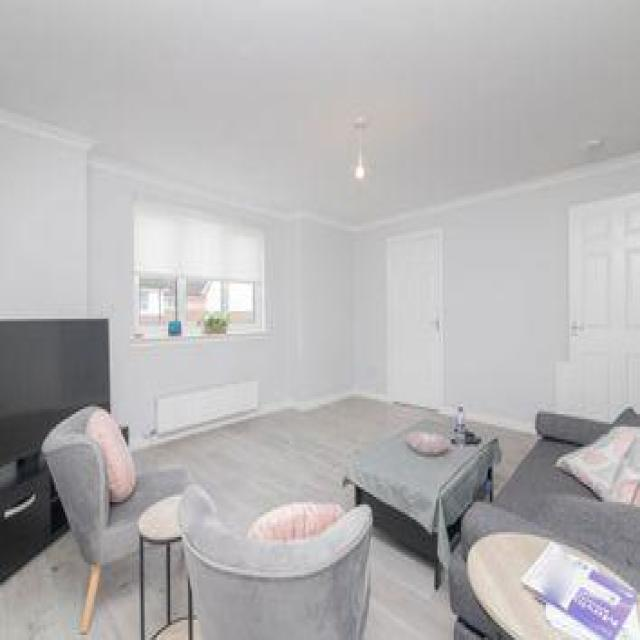Wall: (0, 3, 640, 220), (135, 397, 443, 527), (0, 111, 90, 318), (365, 528, 452, 638), (0, 533, 87, 639), (86, 556, 138, 638), (474, 425, 535, 490), (145, 547, 165, 636), (155, 619, 188, 639), (194, 619, 201, 639)
